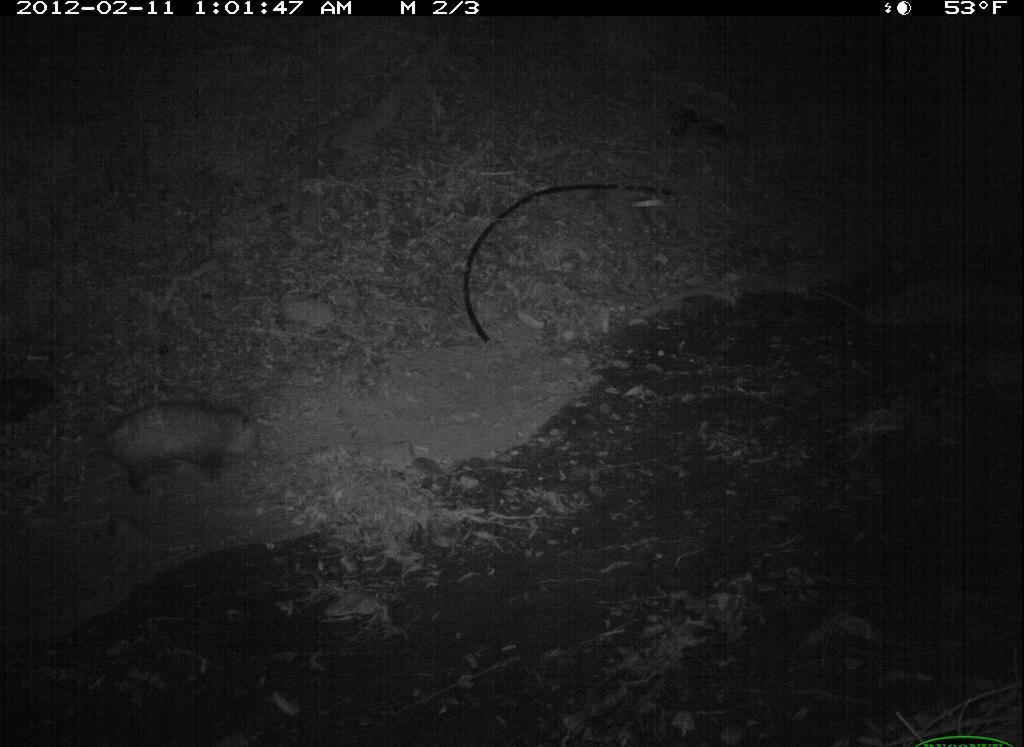opossum: (17, 388, 272, 511)
